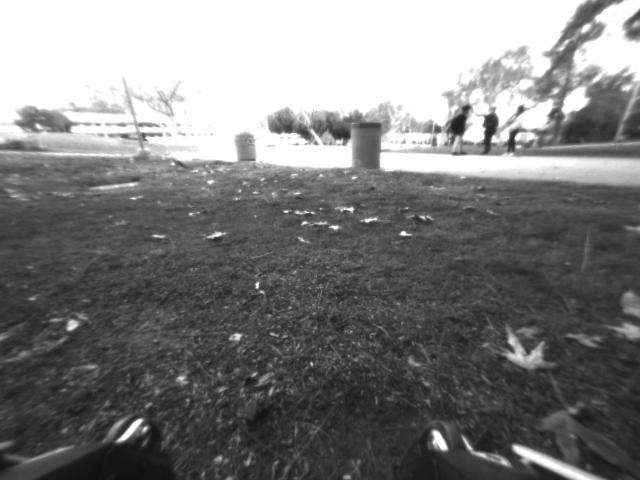trashcan: (347, 120, 382, 171), (235, 132, 261, 165)
